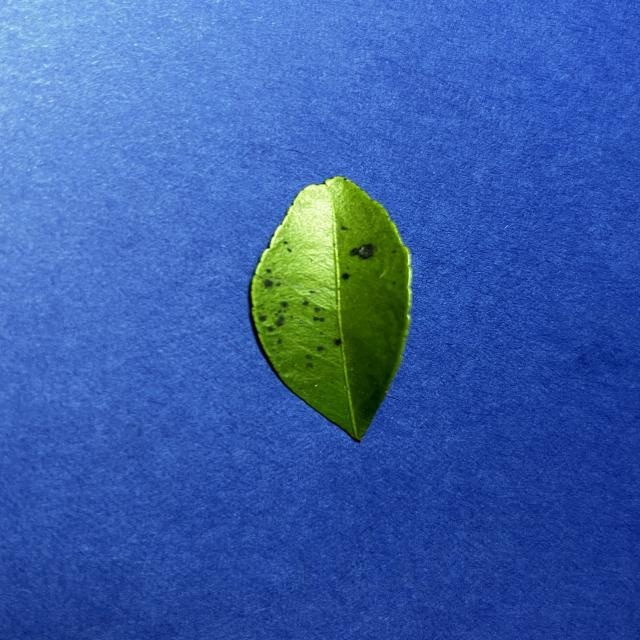sooty_mold: (252, 177, 411, 440)
